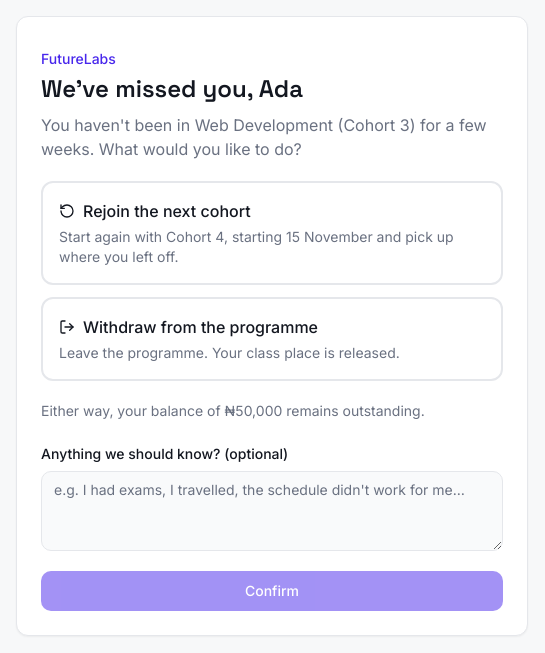
Test case: ReconnectPage › offers only rejoin or withdraw and saves the choice
Expected: the heading "We've missed you, Ada" is shown, [41,73,303,104]
Expected: the text "Either way, your balance of ₦50,000 remains outstanding." is shown, [41,402,425,419]
Click the text "Rejoin the next cohort" at (155, 211), box [59,201,251,221]
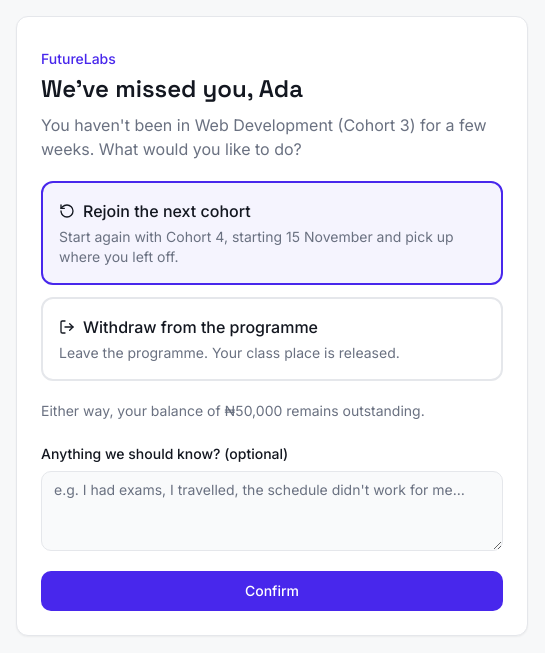
Click the button "Confirm" at (272, 591), box [41,571,503,611]
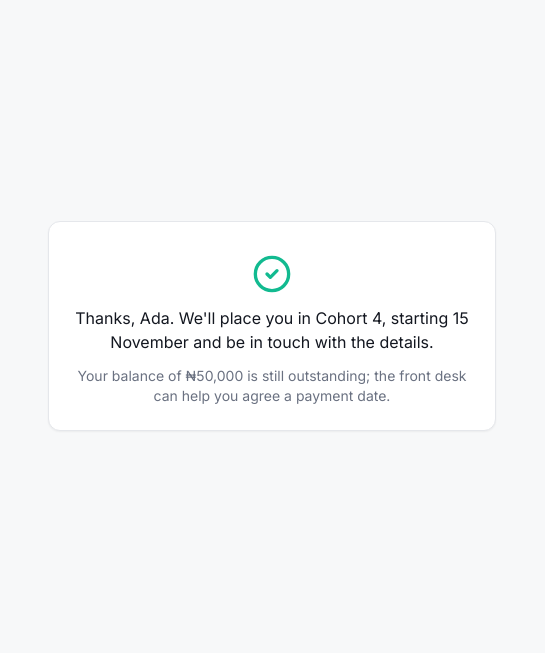
Now the text "We'll place you in Cohort 4" is shown, box [75,308,469,352]
